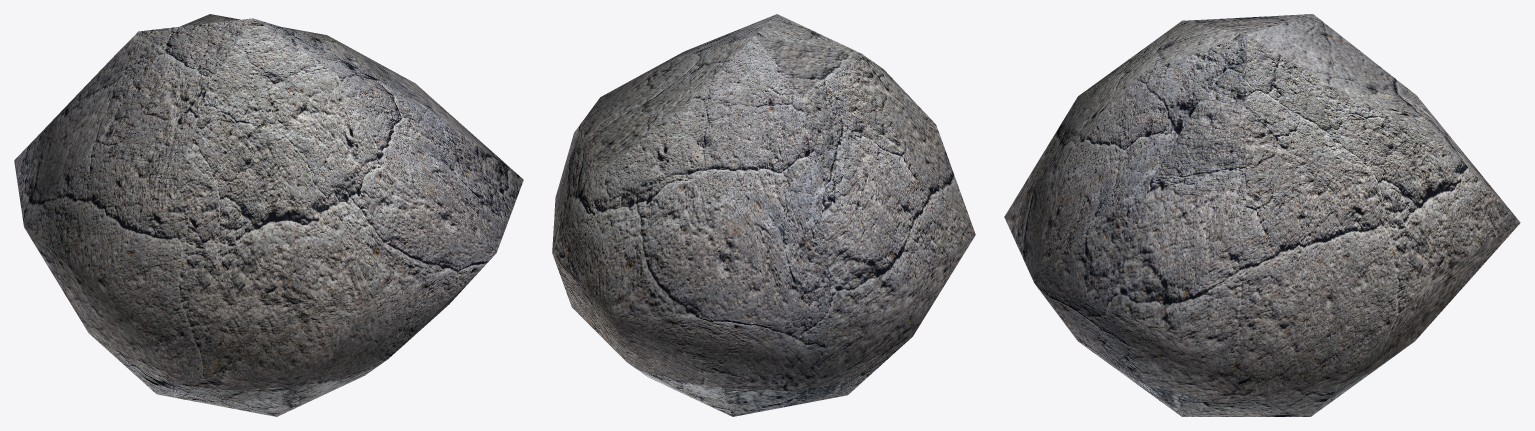
File: rock.glb
The picture shows the model from 3 angles, left to right: view 1: azimuth 30°, elevation 25°; view 2: azimuth 150°, elevation 25°; view 3: azimuth 270°, elevation 25°; orthographic projection. The views are drawn at different scales.
Visible parts, largest first — view 1: rock; view 2: rock; view 3: rock.
Boxes of the visible parts, box(x1,y1,x2,y2) form: rock: box(14, 14, 523, 416); rock: box(552, 14, 975, 416); rock: box(1004, 14, 1520, 416).
Size of the model in its own units: 2.3 by 1.97 by 2.48.
1 material, 1 textured.
